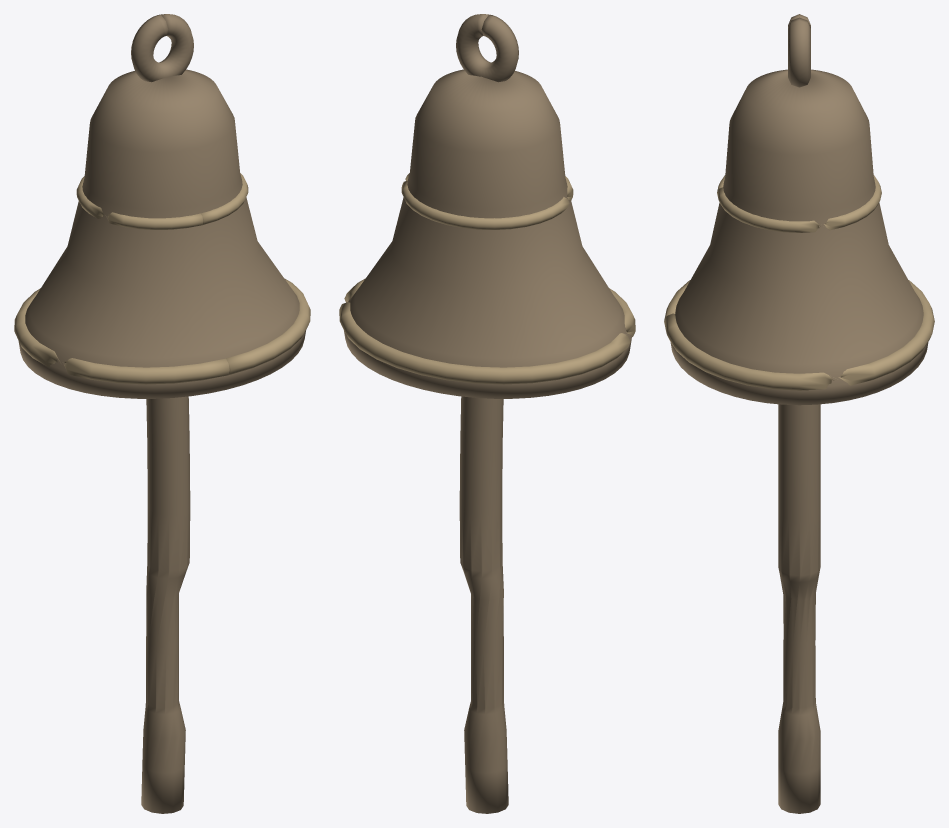
The model's file is guardian_0-fitted.glb.
3 views of the same model, side by side, from view 1: azimuth 30°, elevation 25°; view 2: azimuth 150°, elevation 25°; view 3: azimuth 270°, elevation 25° (orthographic).
Parts seen in each view (by area): view 1: Weapon__bronze, Weapon__gold; view 2: Weapon__bronze, Weapon__gold; view 3: Weapon__bronze, Weapon__gold.
Part boxes in pixels (left/top/right/bottom): Weapon__bronze: left=18, top=14, right=305, bottom=813; Weapon__gold: left=14, top=173, right=310, bottom=384; Weapon__bronze: left=344, top=14, right=631, bottom=813; Weapon__gold: left=339, top=173, right=635, bottom=384; Weapon__bronze: left=670, top=14, right=928, bottom=813; Weapon__gold: left=664, top=175, right=934, bottom=390.
Size of the model in its own units: 0.6044 by 1.73 by 0.5376.
